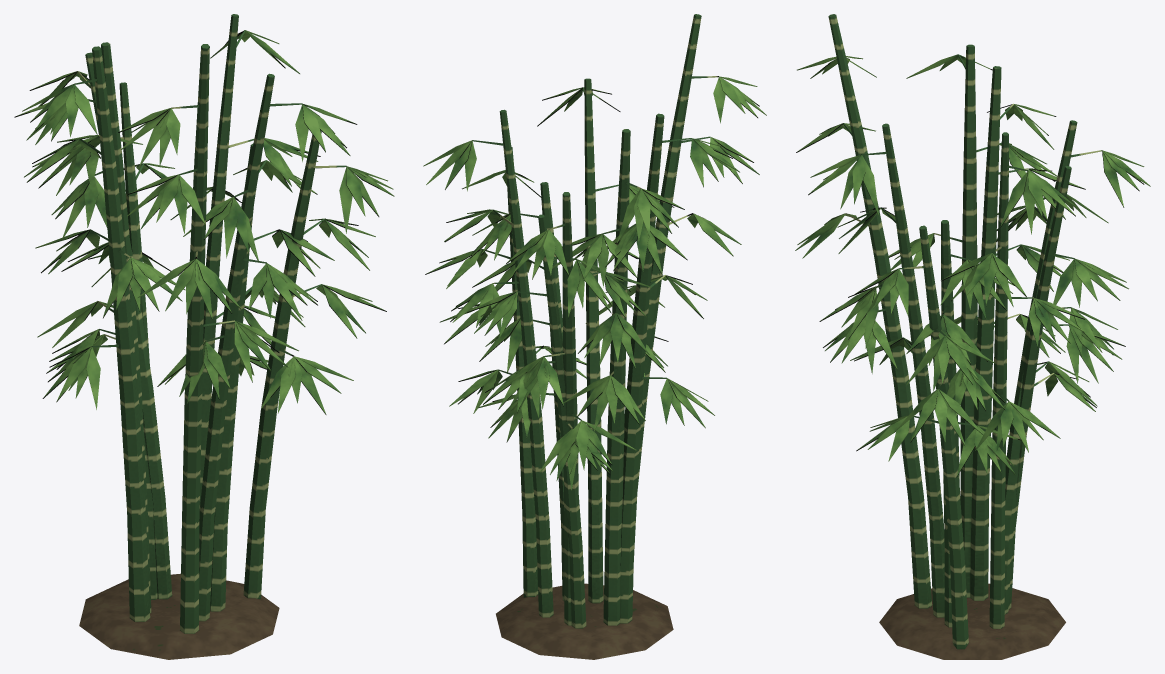
Rendered from bamboo_cluster.fbx.
3 renders of one model, left to right at view 1: azimuth 30°, elevation 25°; view 2: azimuth 150°, elevation 25°; view 3: azimuth 270°, elevation 25°, orthographic. The views are drawn at different scales.
Visible parts, largest first — view 1: bamboo_cluster; view 2: bamboo_cluster; view 3: bamboo_cluster.
Boxes of the visible parts, x1,y1,x2,y2 form: bamboo_cluster: (14, 14, 394, 659); bamboo_cluster: (423, 14, 766, 659); bamboo_cluster: (795, 14, 1150, 659).
Size of the model in its own units: 1383 by 2484 by 1368.
Materials: 1 (1 with a texture image).
